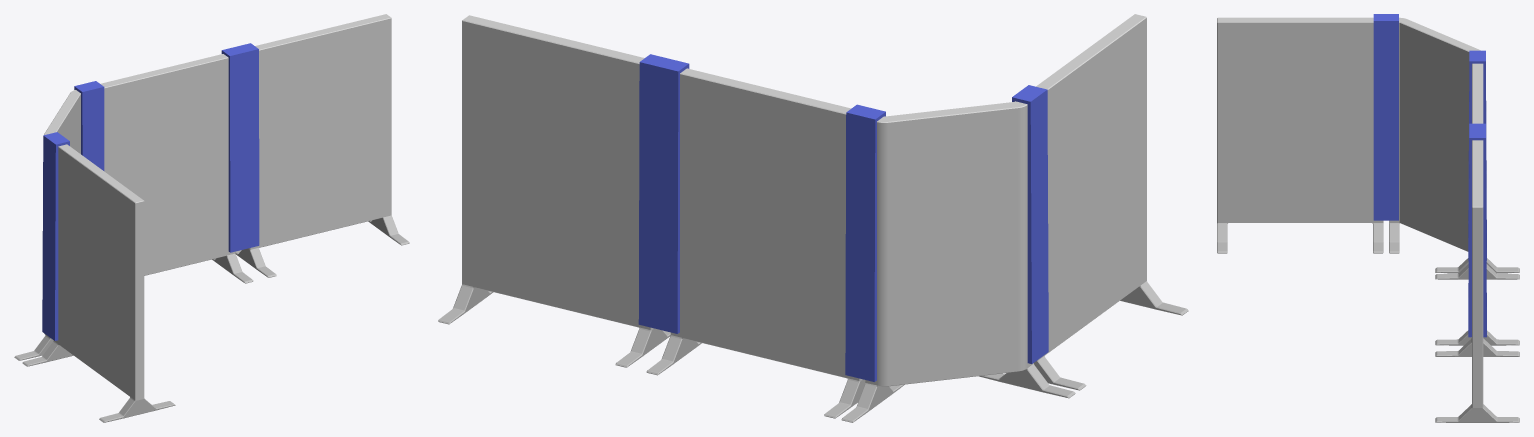
File: PartitionWall1.fbx
3 renders of one model, left to right at view 1: azimuth 30°, elevation 25°; view 2: azimuth 150°, elevation 25°; view 3: azimuth 270°, elevation 25°, orthographic. The views are drawn at different scales.
Parts seen in each view (by area): view 1: partition_wall_L; view 2: partition_wall_L; view 3: partition_wall_L.
Boxes of the visible parts, x1,y1,x2,y2 form: partition_wall_L: [14, 14, 409, 422]; partition_wall_L: [438, 14, 1188, 422]; partition_wall_L: [1217, 14, 1519, 422].
Bounding box in the file's own units: 4.37 × 2.73 × 2.17.
